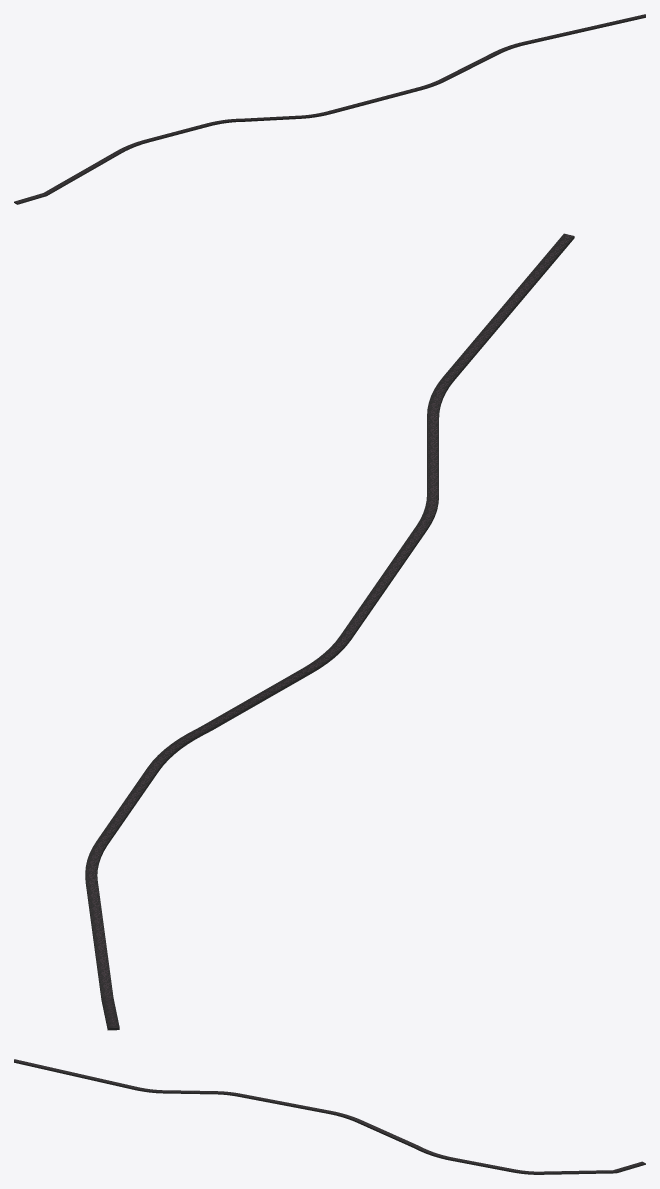
Rendered from OBJ_CourseSpring_testfloor.fbx.
The picture shows the model from 3 angles, top to bottom: view 1: azimuth 90°, elevation 25°; view 2: azimuth 150°, elevation 25°; view 3: azimuth 270°, elevation 25°; orthographic projection. The views are drawn at different scales.
Visible parts, largest first — view 1: polySurface5; view 2: polySurface5; view 3: polySurface5.
Part boxes in pixels (x1,y1,x2,y2): polySurface5: (14, 14, 645, 204); polySurface5: (85, 233, 574, 1030); polySurface5: (14, 1059, 645, 1174).
Size of the model in its own units: 84.47 by 128 by 503.
Materials: 1 (1 with a texture image).
